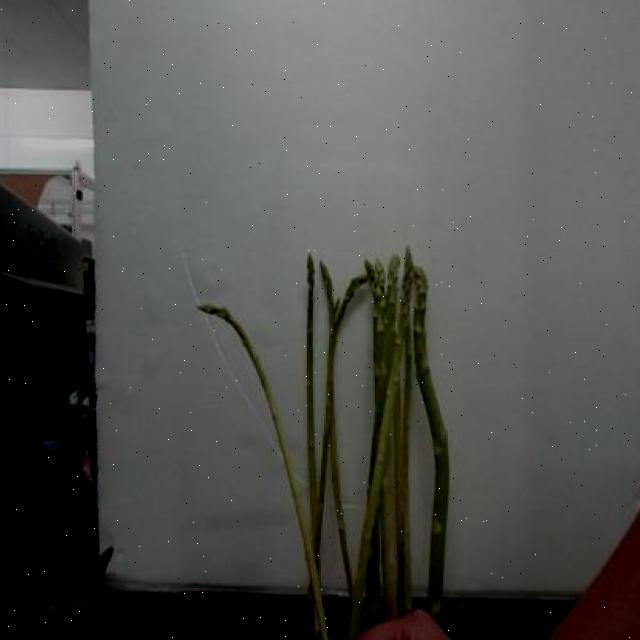aspargus: (197, 305, 334, 640), (411, 265, 453, 629)
